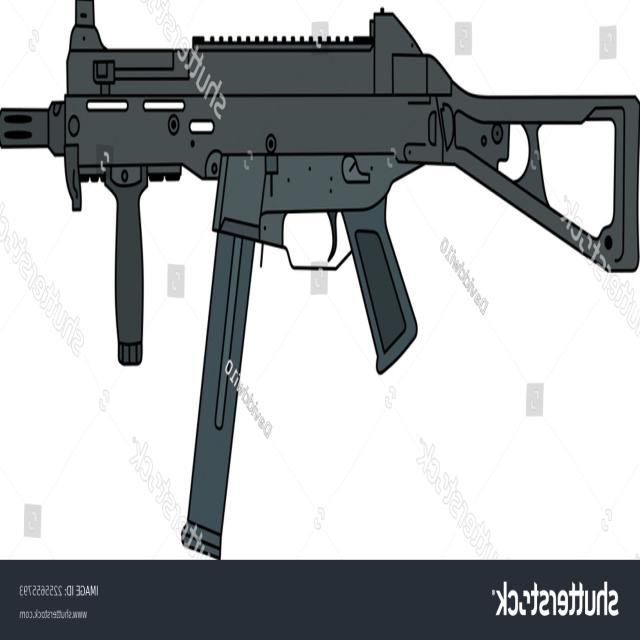Gun: (1, 0, 638, 570)
